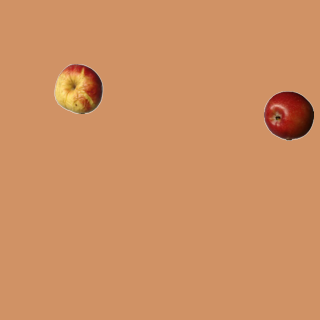Apple Braeburn: (263, 90, 313, 140)
Apple Red Yellow 1: (53, 63, 103, 113)
